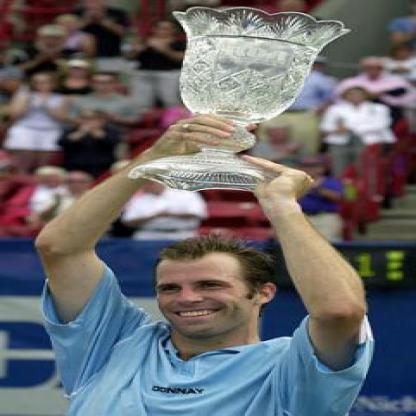face: (151, 246, 260, 339)
